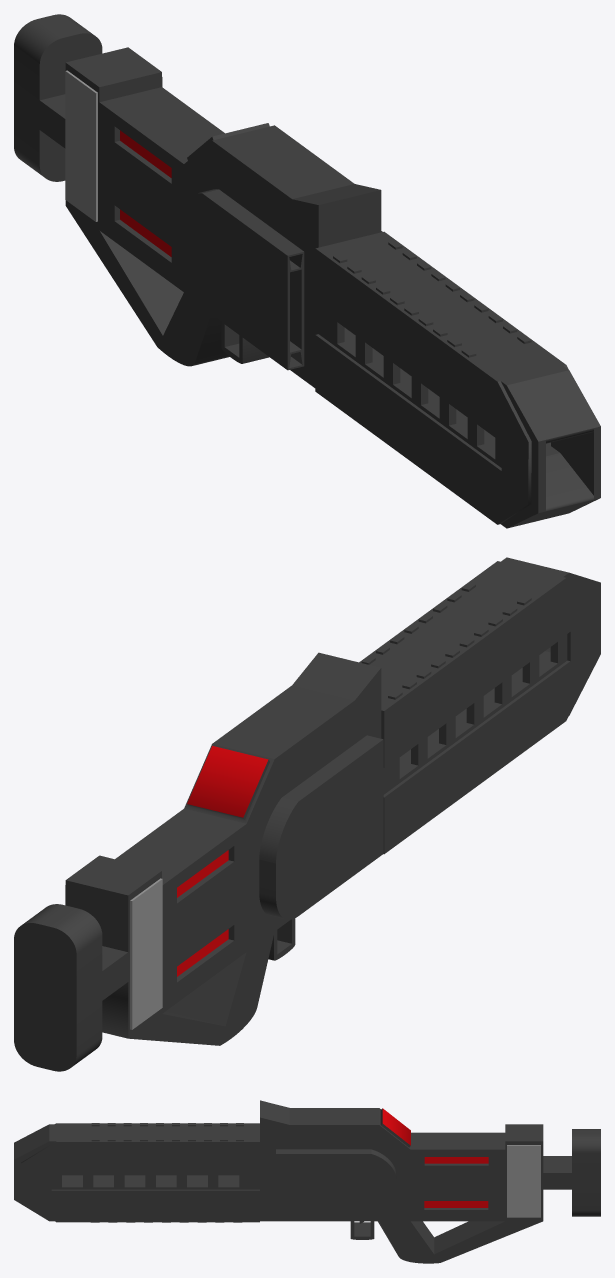
The model's file is railgun.fbx.
3 views of the same model, one above another, from view 1: azimuth 30°, elevation 25°; view 2: azimuth 150°, elevation 25°; view 3: azimuth 270°, elevation 25° (orthographic). The views are drawn at different scales.
Parts seen in each view (by area): view 1: Cube.002; view 2: Cube.002; view 3: Cube.002.
Boxes of the visible parts, bbox=[...] form: Cube.002: bbox=[14, 14, 600, 528]; Cube.002: bbox=[14, 557, 600, 1071]; Cube.002: bbox=[14, 1100, 600, 1263].
Bounding box in the file's own units: 4.6 × 11.96 × 43.52.
